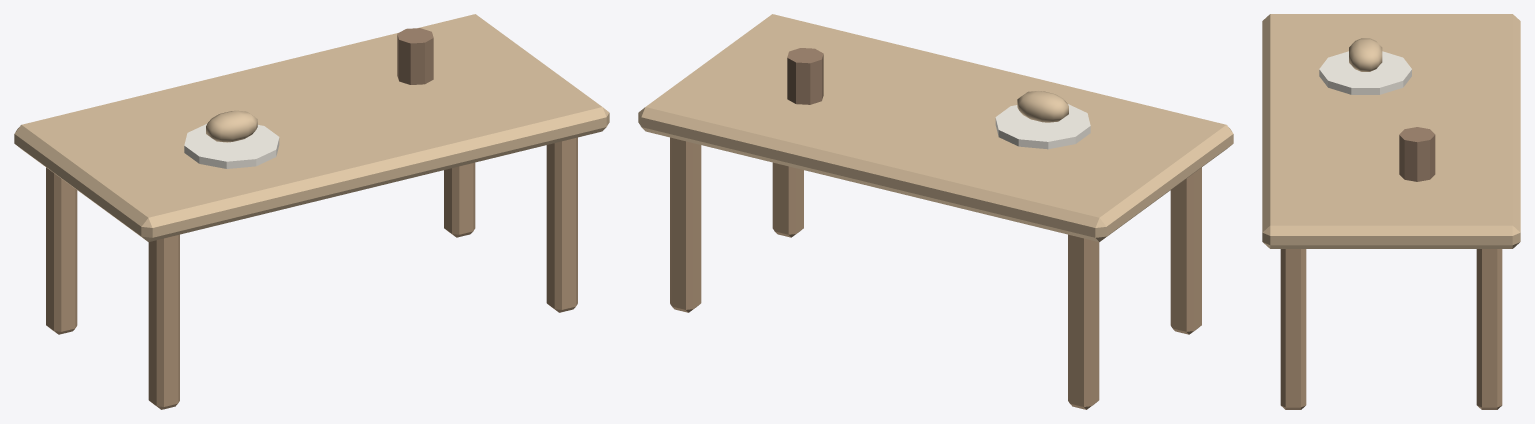
File: prop_table.glb
3 views of the same model, side by side, from view 1: azimuth 30°, elevation 25°; view 2: azimuth 150°, elevation 25°; view 3: azimuth 270°, elevation 25° (orthographic). The views are drawn at different scales.
Visible parts, largest first — view 1: prop_table; view 2: prop_table; view 3: prop_table.
Boxes of the visible parts, x1,y1,x2,y2 form: prop_table: (14,14,609,409); prop_table: (638,14,1233,409); prop_table: (1262,14,1520,409).
Size of the model in its own units: 2 by 1 by 1.
